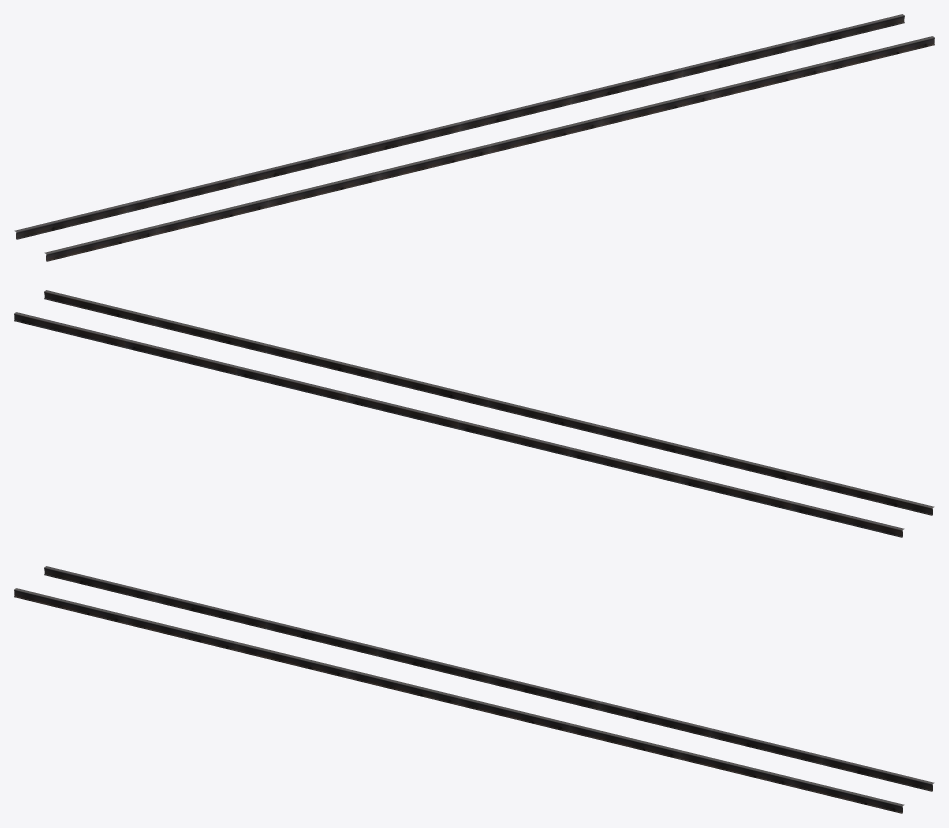
The picture shows the model from 3 angles, top to bottom: view 1: azimuth 30°, elevation 25°; view 2: azimuth 150°, elevation 25°; view 3: azimuth 330°, elevation 25°; orthographic projection.
Parts seen in each view (by area): view 1: body0_model0_lod0_mesh0; view 2: body0_model0_lod0_mesh0; view 3: body0_model0_lod0_mesh0.
Part boxes in pixels (x1=…): body0_model0_lod0_mesh0: x1=14, y1=14, x2=934, y2=261; body0_model0_lod0_mesh0: x1=14, y1=290, x2=934, y2=537; body0_model0_lod0_mesh0: x1=14, y1=566, x2=934, y2=813.
Size of the model in its own units: 1024 by 8.25 by 65.
1 material, 1 textured.
